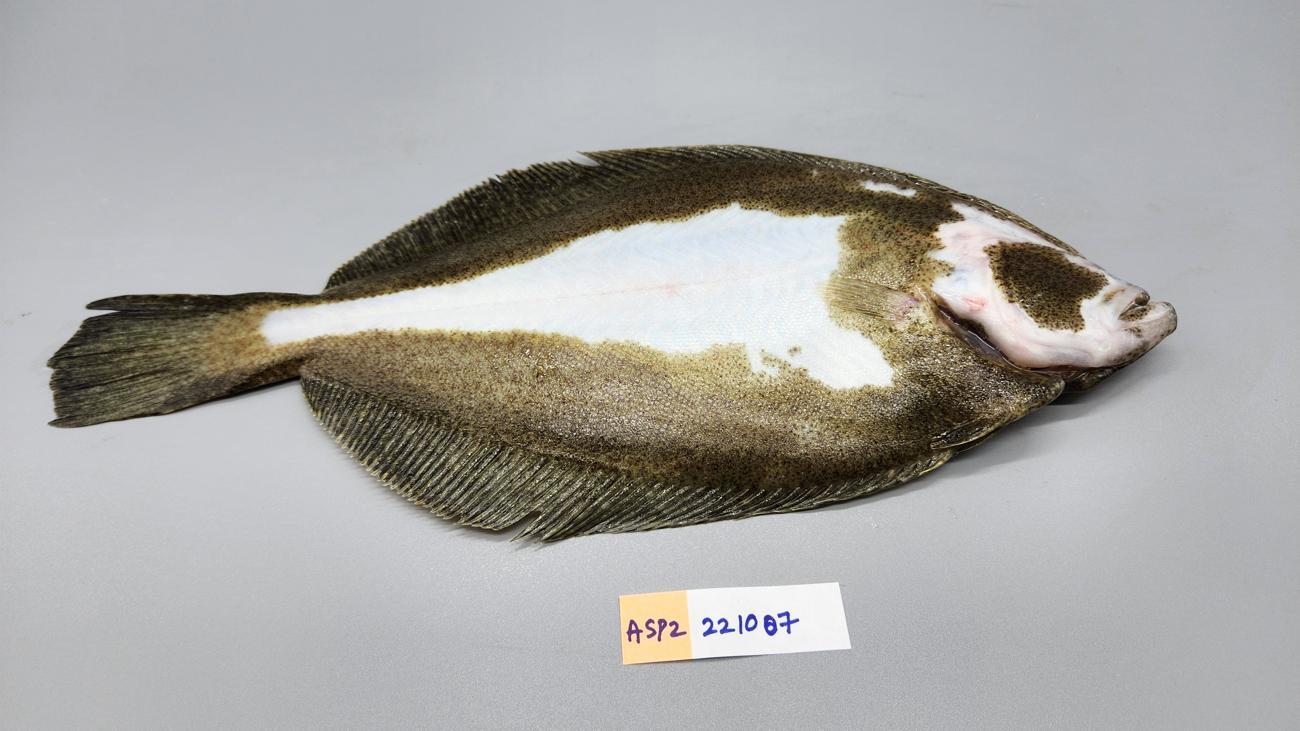SPOUY: (36, 134, 1181, 556)
